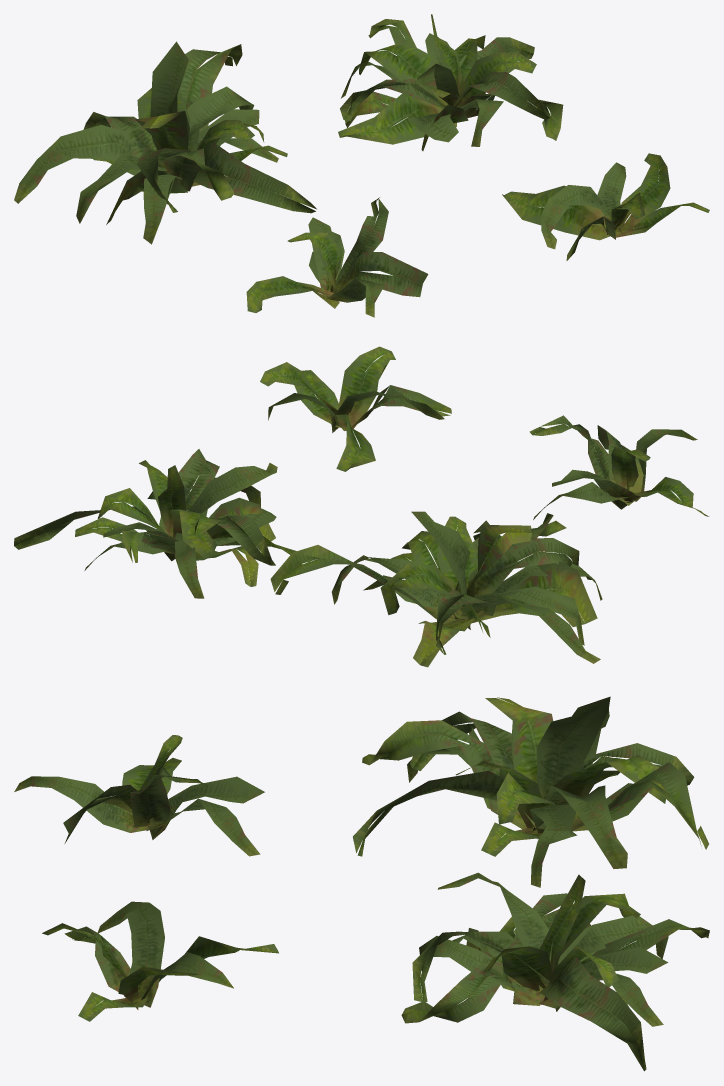
File: fern_lo.glb
3 renders of one model, top to bottom at view 1: azimuth 30°, elevation 25°; view 2: azimuth 150°, elevation 25°; view 3: azimuth 270°, elevation 25°, orthographic. The views are drawn at different scales.
Parts seen in each view (by area): view 1: fern_02_b, fern_02_c, fern_02_d, fern_02_a; view 2: fern_02_b, fern_02_c, fern_02_d, fern_02_a; view 3: fern_02_b, fern_02_c, fern_02_a, fern_02_d.
Boxes of the visible parts, left/top/right/bottom form: fern_02_b: left=14, top=41, right=316, bottom=244; fern_02_c: left=338, top=14, right=563, bottom=150; fern_02_d: left=502, top=153, right=709, bottom=260; fern_02_a: left=246, top=197, right=428, bottom=317; fern_02_b: left=270, top=511, right=602, bottom=667; fern_02_c: left=14, top=449, right=309, bottom=598; fern_02_d: left=260, top=346, right=451, bottom=471; fern_02_a: left=529, top=415, right=709, bottom=519; fern_02_b: left=353, top=696, right=708, bottom=887; fern_02_c: left=401, top=872, right=709, bottom=1071; fern_02_a: left=14, top=735, right=264, bottom=856; fern_02_d: left=42, top=901, right=278, bottom=1021.
Bounding box in the file's own units: 1.97 × 0.4377 × 1.73.
1 material, 1 textured.
